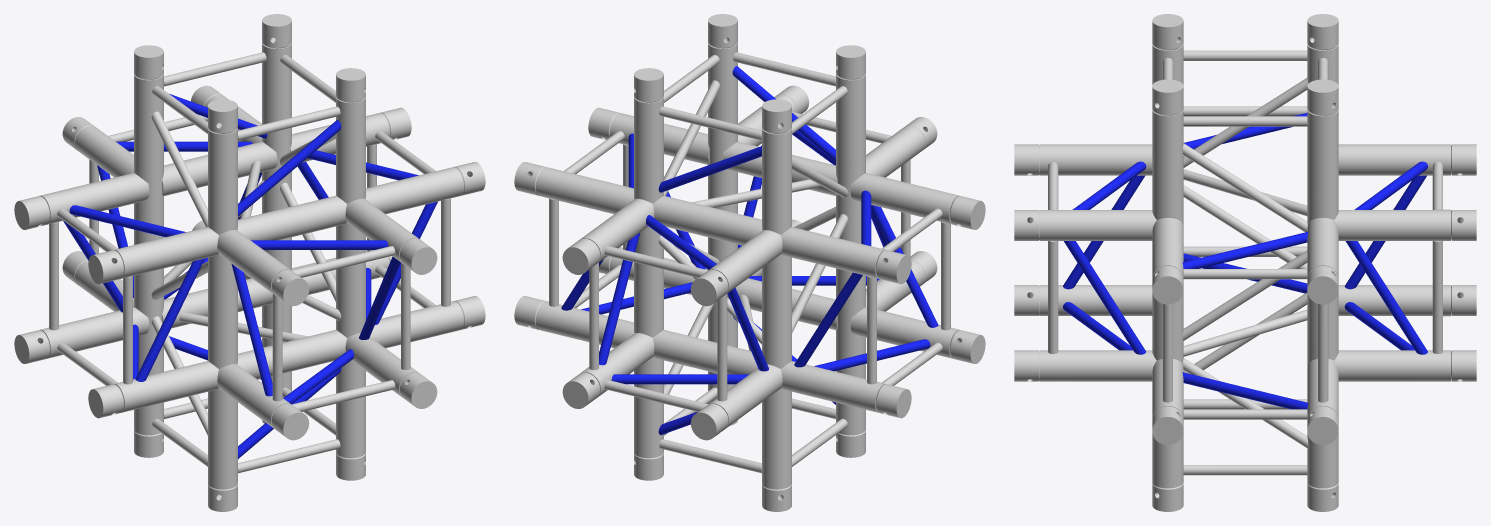
The picture shows the model from 3 angles, left to right: view 1: azimuth 30°, elevation 25°; view 2: azimuth 150°, elevation 25°; view 3: azimuth 270°, elevation 25°; orthographic projection. The views are drawn at different scales.
Parts seen in each view (by area): view 1: 260028027; view 2: 260028027; view 3: 260028027.
Part boxes in pixels (x1=…): 260028027: x1=14, y1=14, x2=485, y2=511; 260028027: x1=514, y1=14, x2=985, y2=511; 260028027: x1=1014, y1=14, x2=1476, y2=511.
Size of the model in its own units: 0.713 by 0.713 by 0.713.
